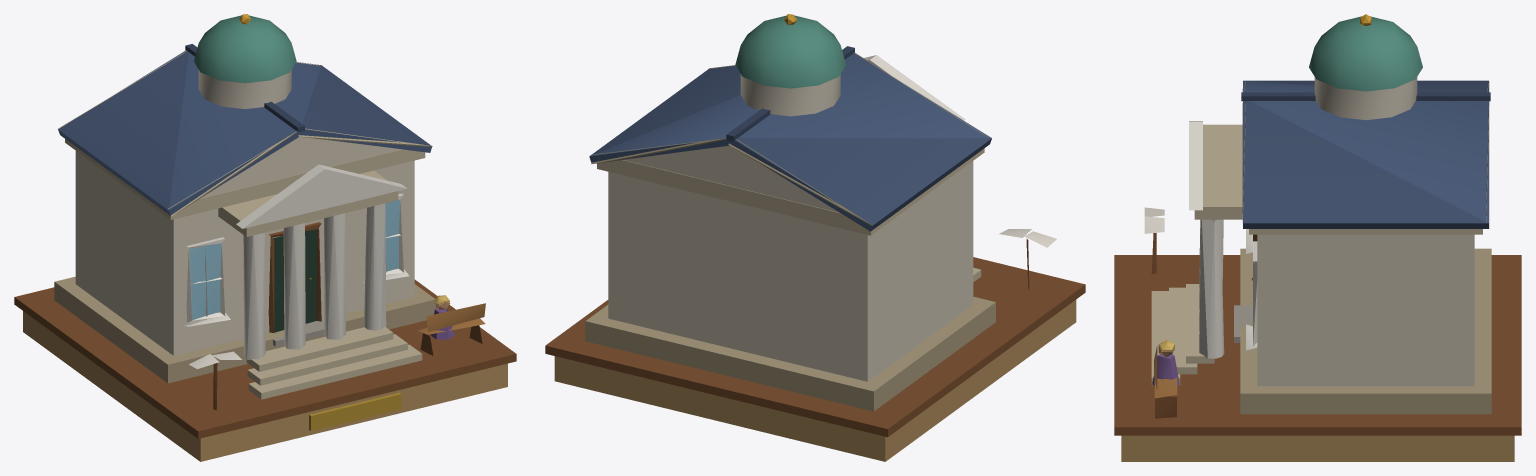
The model's file is library_souvenir.glb.
The picture shows the model from 3 angles, left to right: view 1: azimuth 30°, elevation 25°; view 2: azimuth 150°, elevation 25°; view 3: azimuth 270°, elevation 25°; orthographic projection. The views are drawn at different scales.
Visible parts, largest first — view 1: decor-library_souvenir; view 2: decor-library_souvenir; view 3: decor-library_souvenir.
Boxes of the visible parts, bbox=[...] form: decor-library_souvenir: bbox=[14, 14, 516, 461]; decor-library_souvenir: bbox=[545, 14, 1085, 461]; decor-library_souvenir: bbox=[1114, 14, 1521, 461].
Size of the model in its own units: 1.76 by 1.74 by 1.76.
